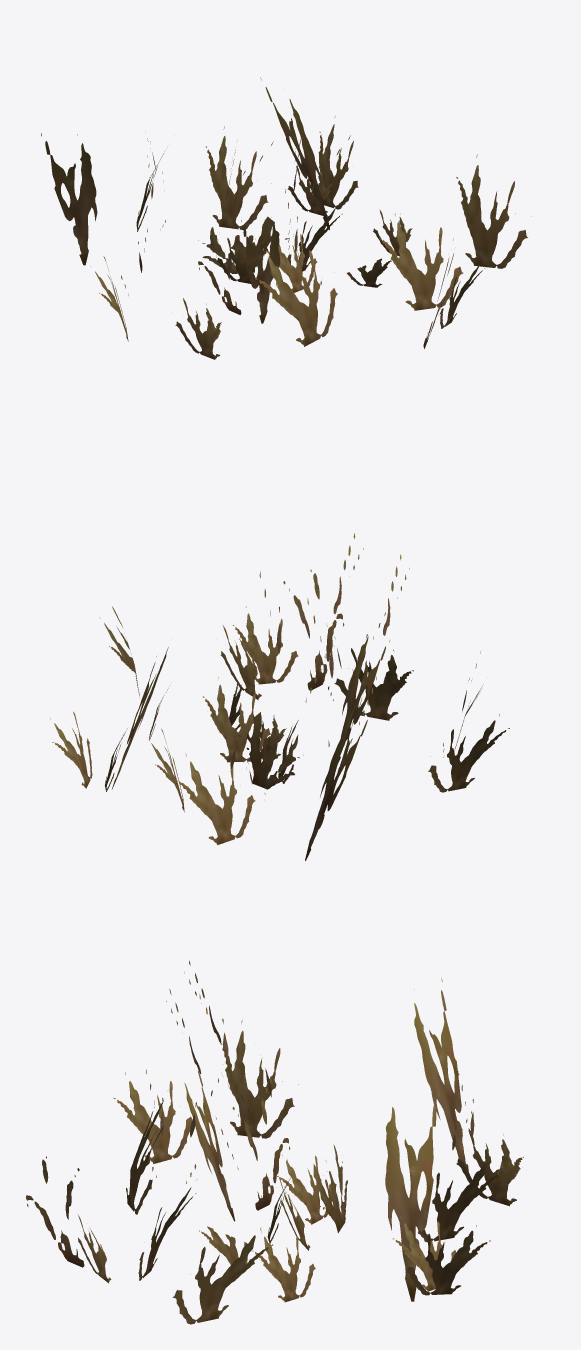
The picture shows the model from 3 angles, top to bottom: view 1: azimuth 30°, elevation 25°; view 2: azimuth 150°, elevation 25°; view 3: azimuth 270°, elevation 25°; orthographic projection. The views are drawn at different scales.
Parts seen in each view (by area): view 1: grasspatch1; view 2: grasspatch1; view 3: grasspatch1.
Part boxes in pixels (x1,y1,x2,y2): grasspatch1: (41,77,531,359); grasspatch1: (50,533,509,860); grasspatch1: (26,960,523,1324).
Bounding box in the file's own units: 1.12 × 0.5838 × 0.9842.
Materials: 1 (1 with a texture image).
